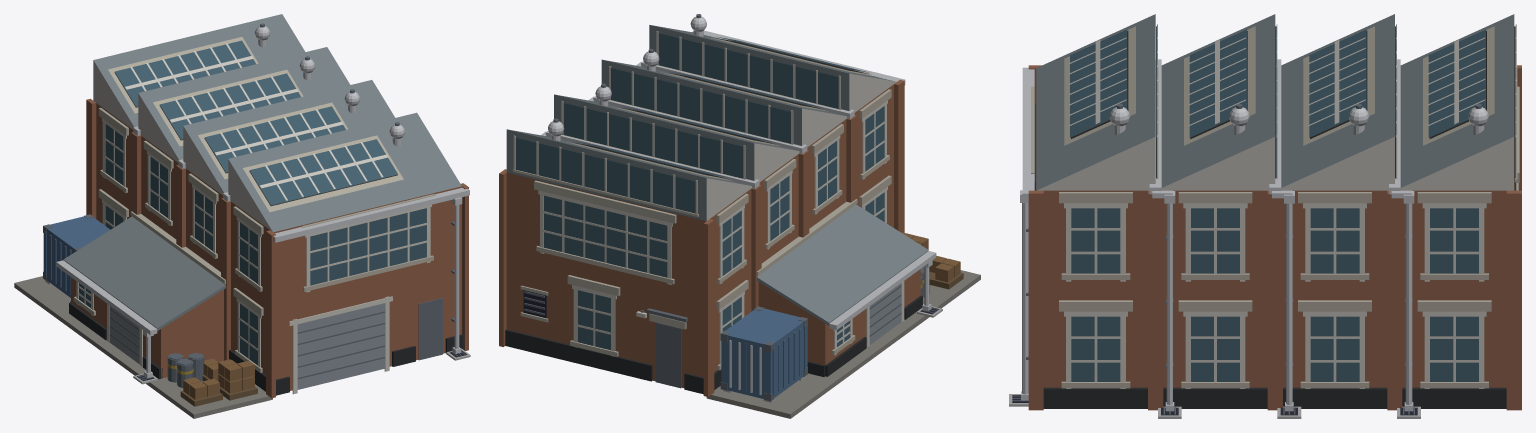
Rendered from industrial_factory_lvl1.glb.
3 renders of one model, left to right at view 1: azimuth 30°, elevation 25°; view 2: azimuth 150°, elevation 25°; view 3: azimuth 270°, elevation 25°, orthographic. The views are drawn at different scales.
Parts seen in each view (by area): view 1: industrial_factory, industrial_factory_Glass; view 2: industrial_factory, industrial_factory_Glass; view 3: industrial_factory, industrial_factory_Glass.
Boxes of the visible parts, x1,y1,x2,y2 form: industrial_factory: (14, 14, 470, 418); industrial_factory_Glass: (79, 40, 426, 365); industrial_factory: (499, 14, 980, 418); industrial_factory_Glass: (516, 33, 884, 350); industrial_factory: (1009, 14, 1521, 418); industrial_factory_Glass: (1034, 26, 1515, 381).
Bounding box in the file's own units: 0.5631 × 0.3948 × 0.6404.
